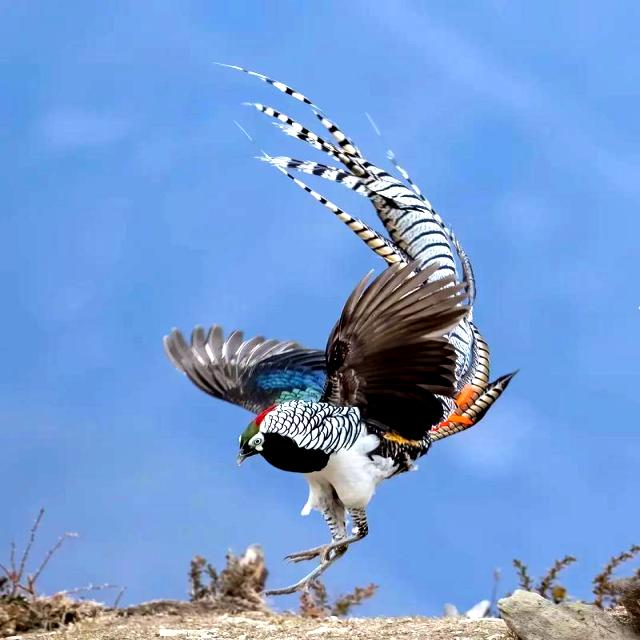Chrysolophus amherstiae: (246, 73, 509, 440)
